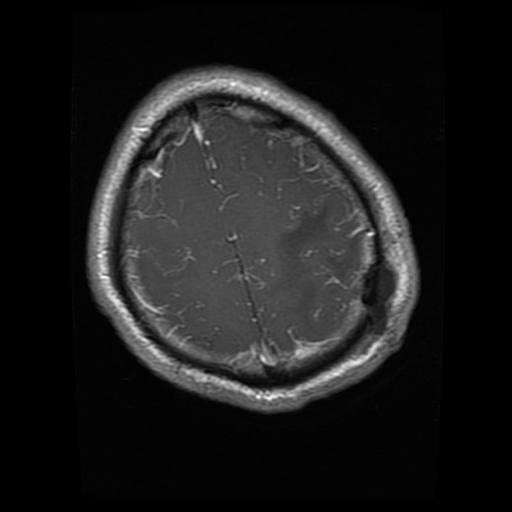Gliomia_tumour: (358, 260, 396, 334)
